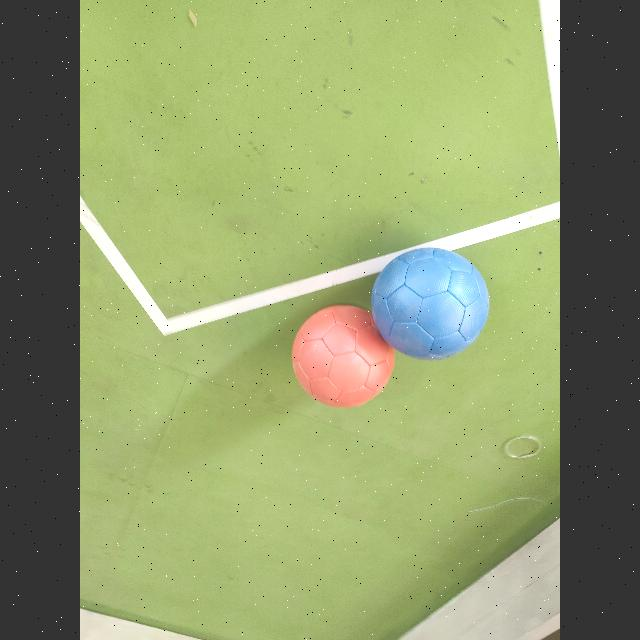B: (371, 248, 489, 359)
R: (293, 305, 394, 407)
